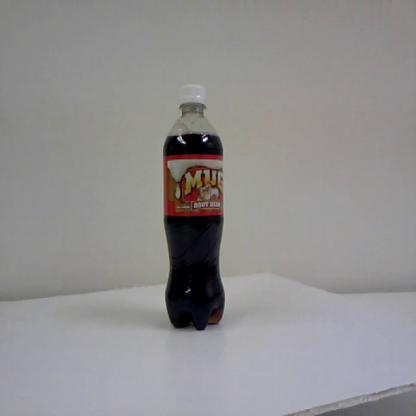bottle: (161, 82, 227, 334)
